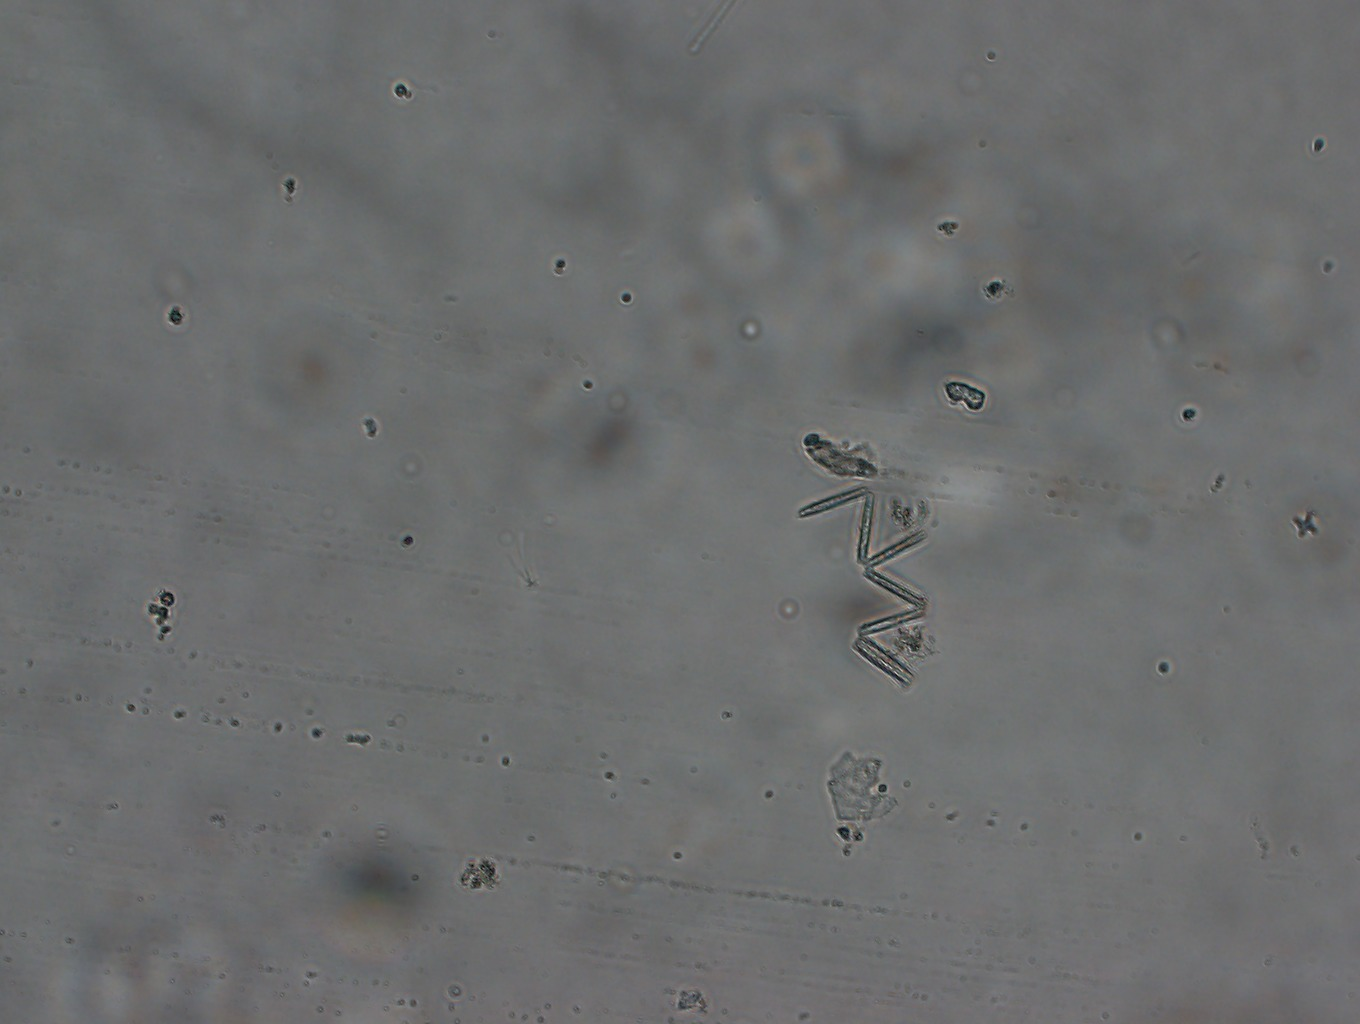thalassionema nitzschioides: (788, 477, 942, 707)
